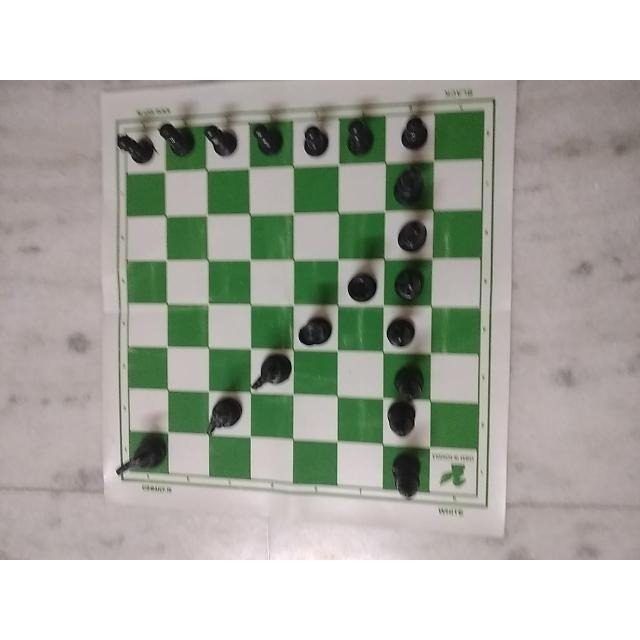black-bishop: (381, 444, 433, 504), (381, 398, 428, 445), (387, 362, 429, 408), (393, 261, 433, 306), (381, 315, 426, 353), (392, 162, 431, 204), (389, 213, 428, 252)
black-knight: (113, 436, 174, 478), (247, 350, 295, 399), (203, 396, 247, 440)
black-pawn: (202, 118, 244, 166), (118, 128, 162, 169), (389, 113, 433, 153), (295, 119, 334, 161), (153, 121, 197, 157), (248, 120, 284, 156), (344, 114, 376, 154)
black-rook: (292, 305, 335, 353), (336, 267, 386, 307)
